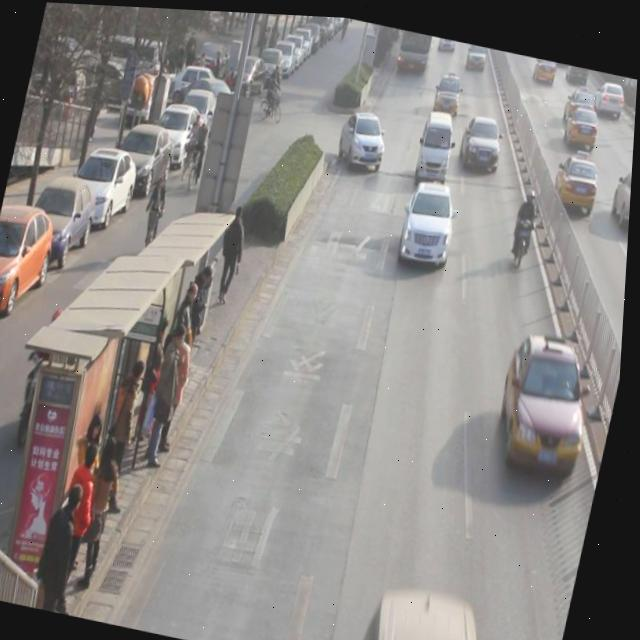car: (494, 322, 608, 475), (399, 173, 464, 264), (335, 104, 393, 171), (552, 139, 607, 209), (458, 106, 510, 171), (564, 96, 604, 144), (610, 156, 634, 229), (591, 72, 628, 112), (434, 67, 467, 110), (564, 77, 597, 117), (532, 53, 560, 78), (465, 39, 489, 66), (566, 59, 590, 79), (438, 33, 456, 47)
truck: (414, 103, 462, 183)
van: (396, 26, 432, 69)
